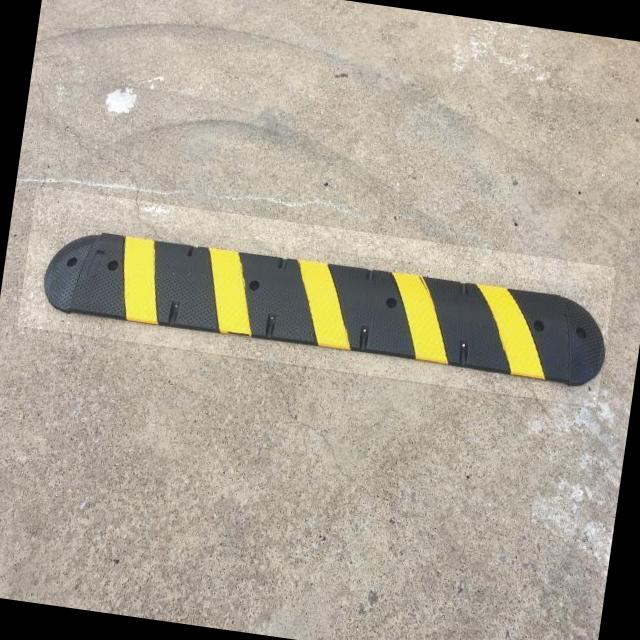bump: (44, 213, 609, 409)
